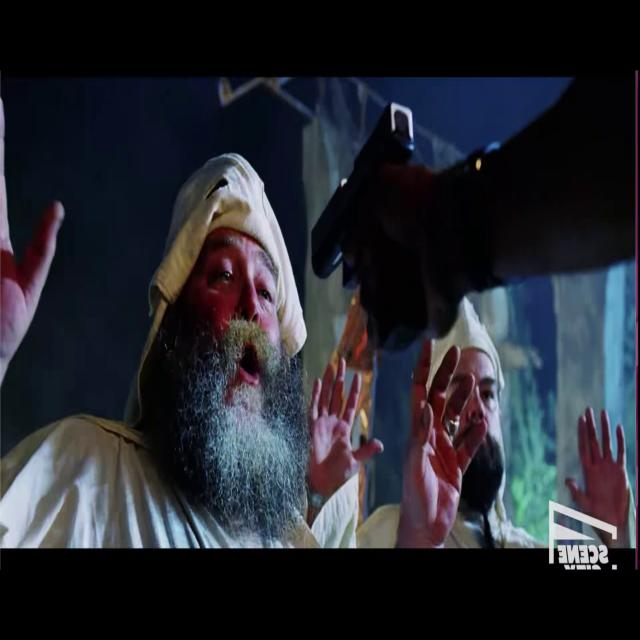weapons: (306, 81, 426, 376)
